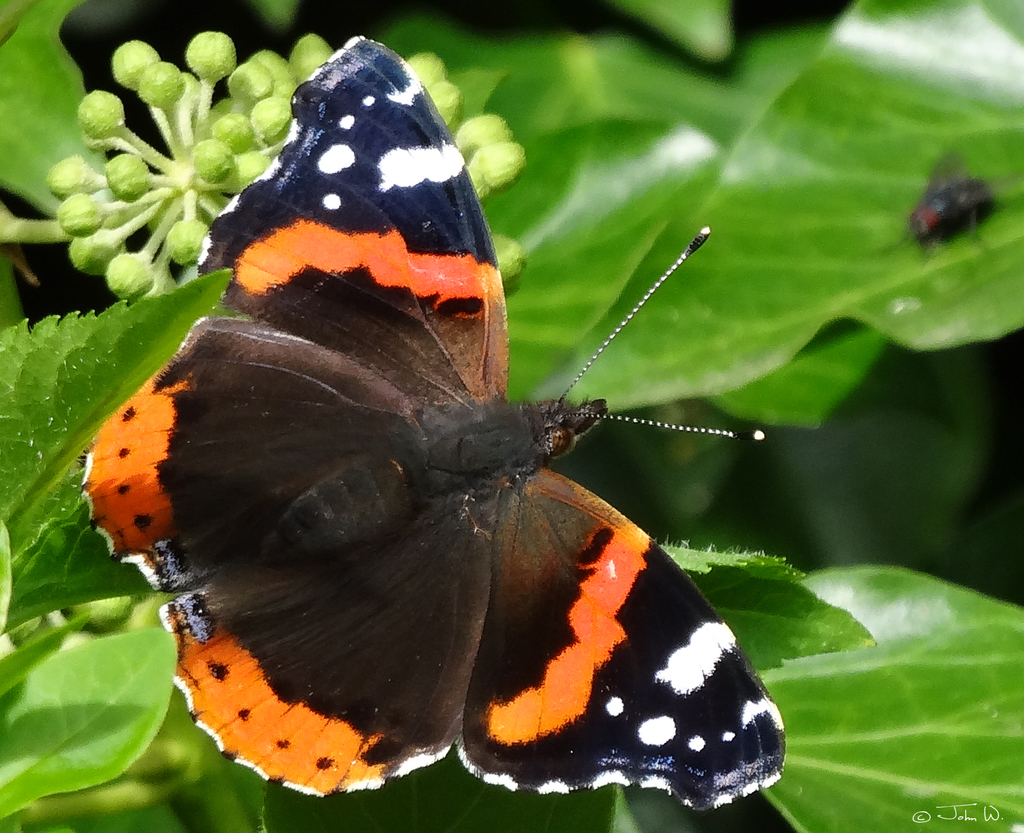Butterfly: (67, 53, 802, 810)
